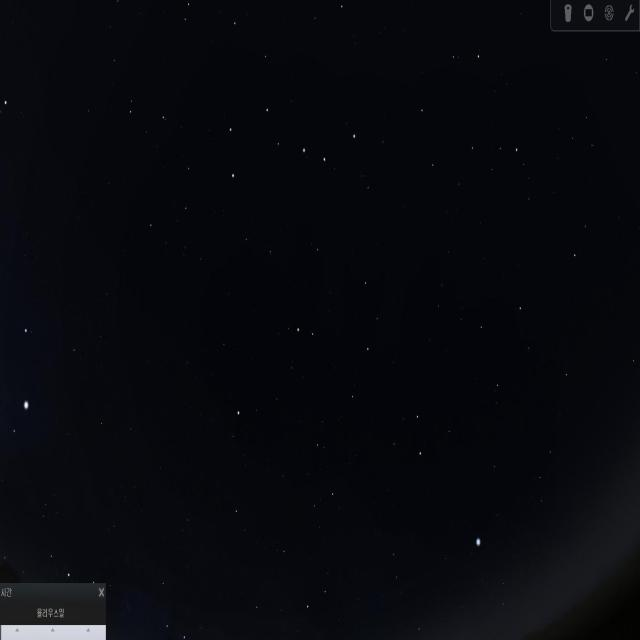ursa_major: (222, 84, 360, 214)
